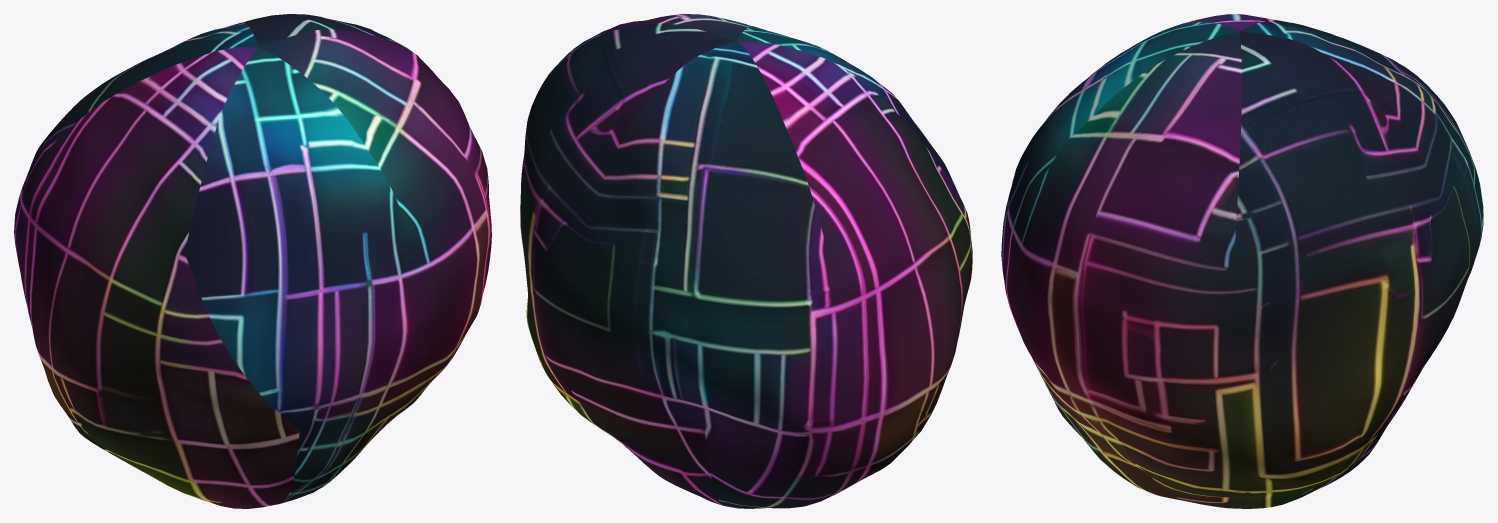
Rendered from color_orb.glb.
The picture shows the model from 3 angles, left to right: view 1: azimuth 30°, elevation 25°; view 2: azimuth 150°, elevation 25°; view 3: azimuth 270°, elevation 25°; orthographic projection. The views are drawn at different scales.
Visible parts, largest first — view 1: Icosphere_0; view 2: Icosphere_0; view 3: Icosphere_0.
Part boxes in pixels (box(x1,y1,x2,y2)): Icosphere_0: box(14, 14, 491, 508); Icosphere_0: box(520, 14, 972, 508); Icosphere_0: box(1001, 14, 1483, 508).
Size of the model in its own units: 1.94 by 2.05 by 1.88.
Materials: 1 (1 with a texture image).
